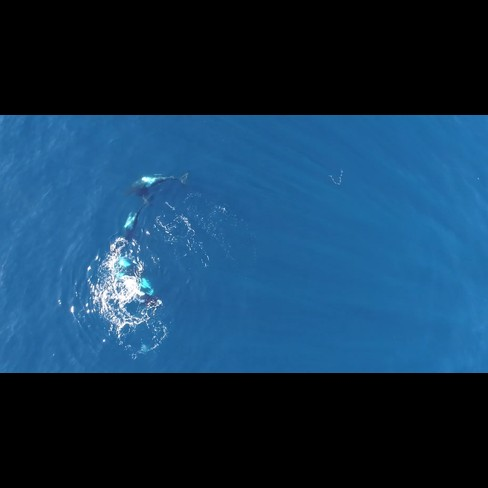orca: (104, 207, 157, 273), (115, 262, 170, 322), (118, 165, 197, 205)
